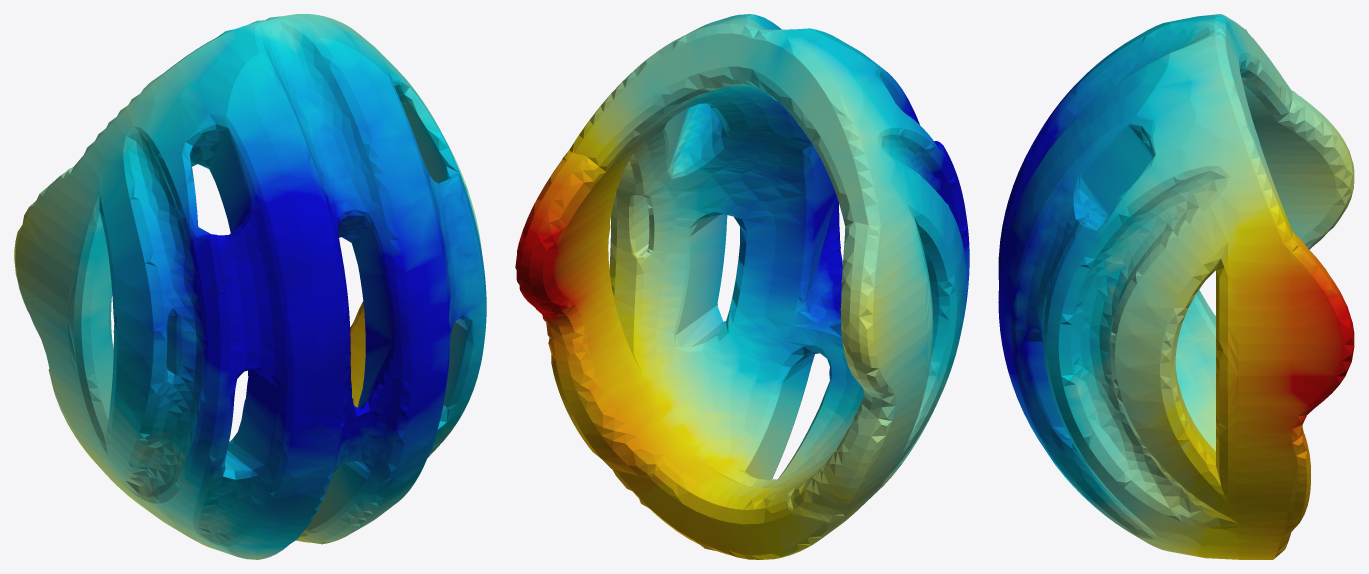
File: helmet_ours_poisson.glb
The picture shows the model from 3 angles, left to right: view 1: azimuth 30°, elevation 25°; view 2: azimuth 150°, elevation 25°; view 3: azimuth 270°, elevation 25°; orthographic projection. The views are drawn at different scales.
Visible parts, largest first — view 1: helmet.obj; view 2: helmet.obj; view 3: helmet.obj.
Part boxes in pixels (<box>): helmet.obj: <box>14,14,486,559</box>; helmet.obj: <box>515,14,969,559</box>; helmet.obj: <box>998,14,1354,559</box>.
Bounding box in the file's own units: 0.1917 × 0.2572 × 0.1611.
